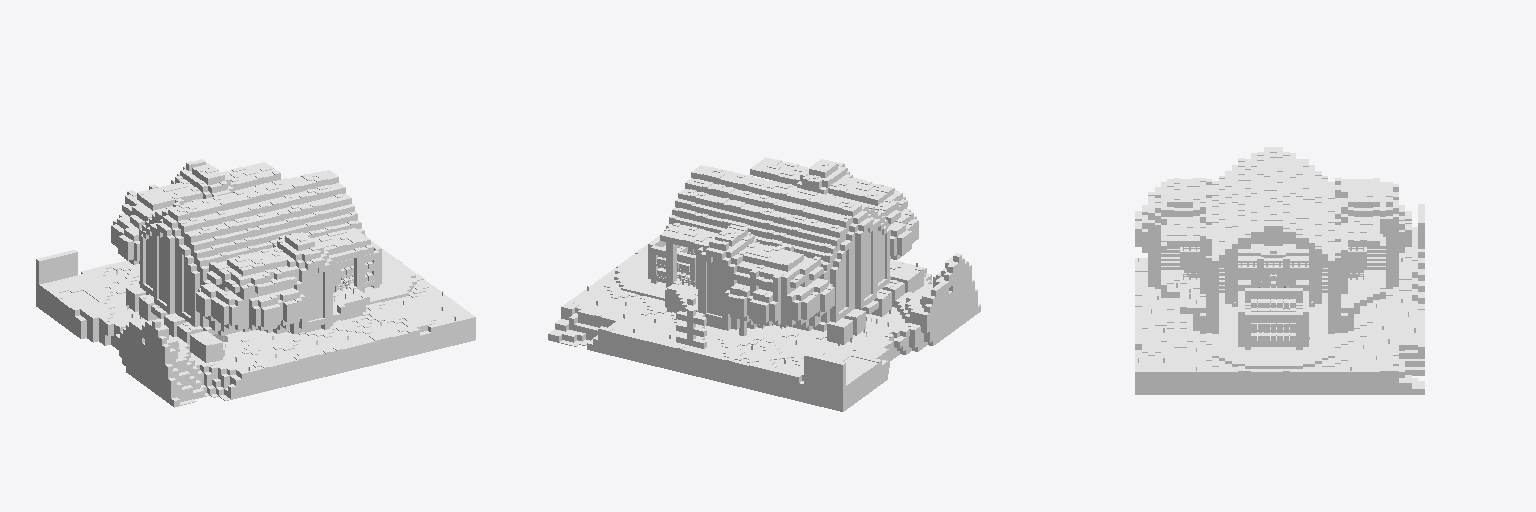
The model's file is library.obj.
3 views of the same model, side by side, from view 1: azimuth 30°, elevation 25°; view 2: azimuth 150°, elevation 25°; view 3: azimuth 270°, elevation 25° (orthographic).
Visible parts, largest first — view 1: Etho's_LP_Ep550__-534_106_17_to_-482_181_61; view 2: Etho's_LP_Ep550__-534_106_17_to_-482_181_61; view 3: Etho's_LP_Ep550__-534_106_17_to_-482_181_61.
Boxes of the visible parts, box(x1,y1,x2,y2) form: Etho's_LP_Ep550__-534_106_17_to_-482_181_61: box(36, 159, 475, 407); Etho's_LP_Ep550__-534_106_17_to_-482_181_61: box(548, 157, 980, 411); Etho's_LP_Ep550__-534_106_17_to_-482_181_61: box(1135, 147, 1424, 394).
Size of the model in its own units: 53 by 23.12 by 45.